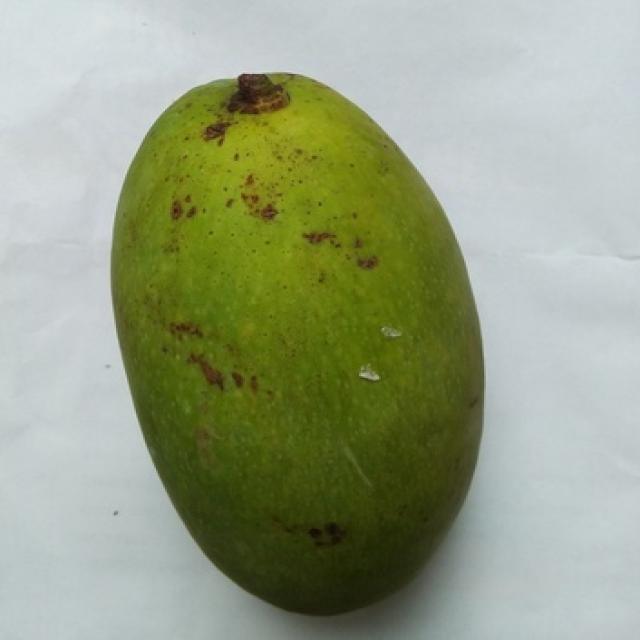Mango: (112, 74, 482, 613)
